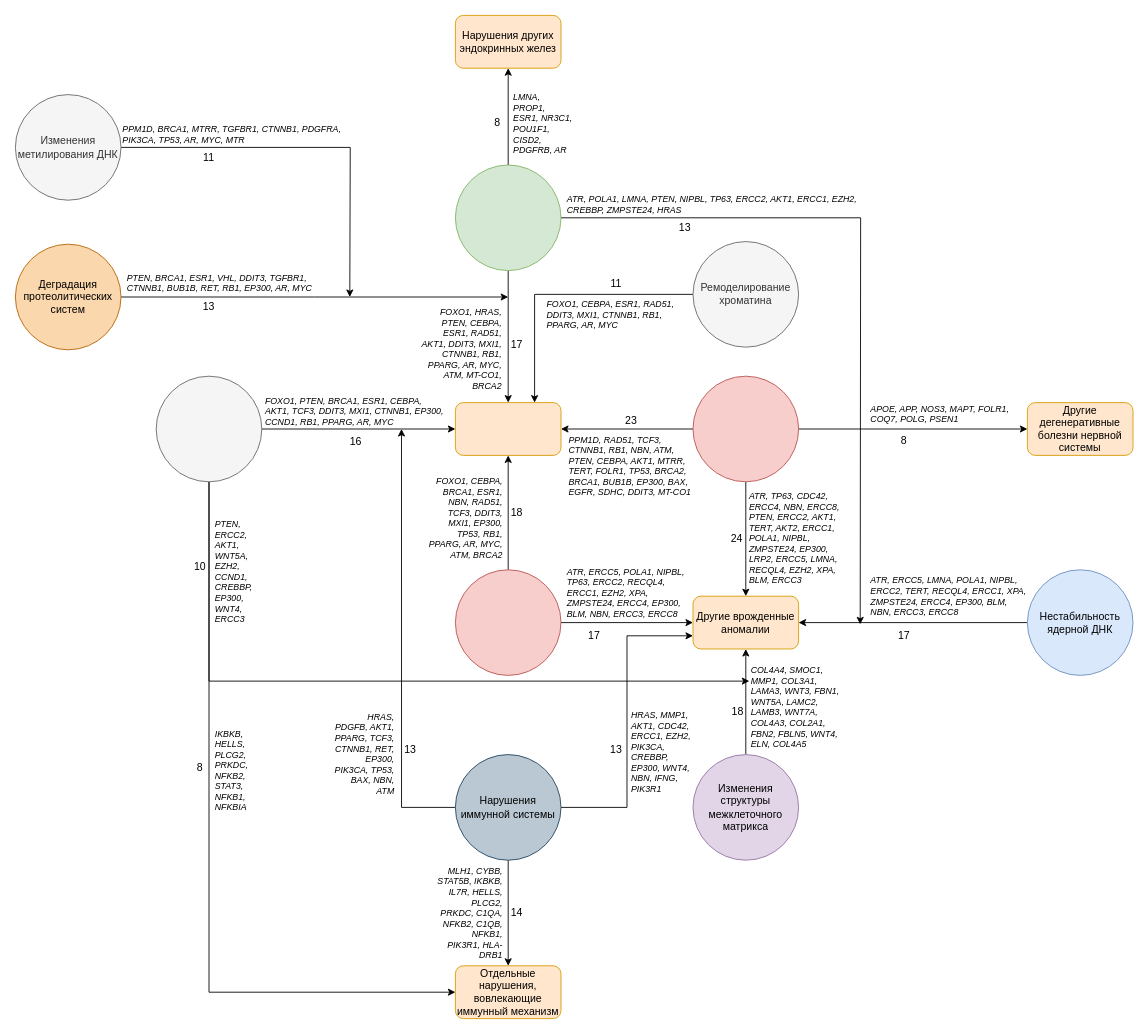
This 1148x1034 diagram has some shape labels left out. Here are the shapes that lost their labels. From the top down, the centre of each, then its label:
(508,217): Накопление сенесцентных клеток
(208,428): Транскрипционные изменения
(508,428): Злокачественные новообразования
(745,428): Нарушение целостности и биогенеза митохондрий
(508,622): Нестабильность митохондриальной ДНК
